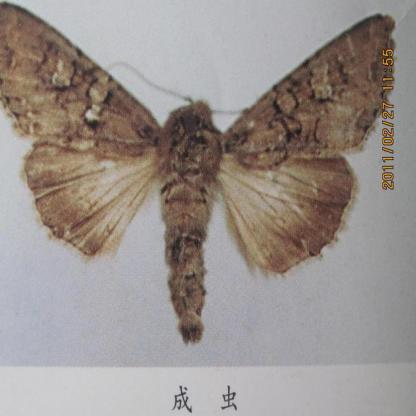armyworm: (0, 1, 380, 345)
